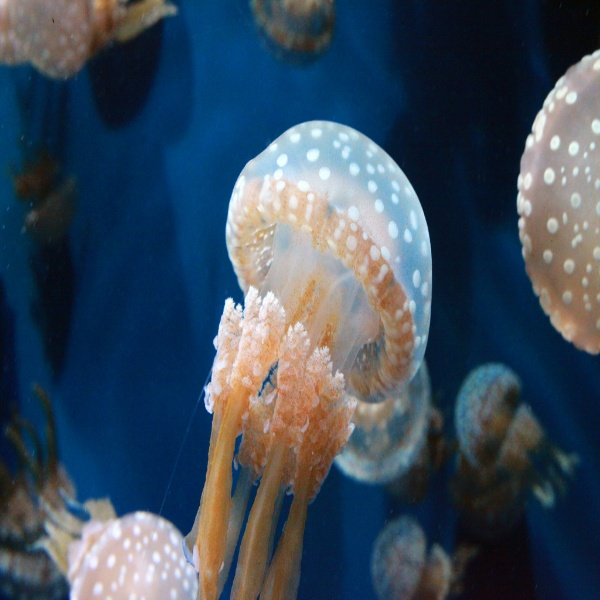Jellyfish: (189, 131, 445, 570), (2, 382, 200, 599), (513, 45, 599, 354), (452, 367, 575, 507), (0, 0, 176, 75), (367, 515, 470, 599)
